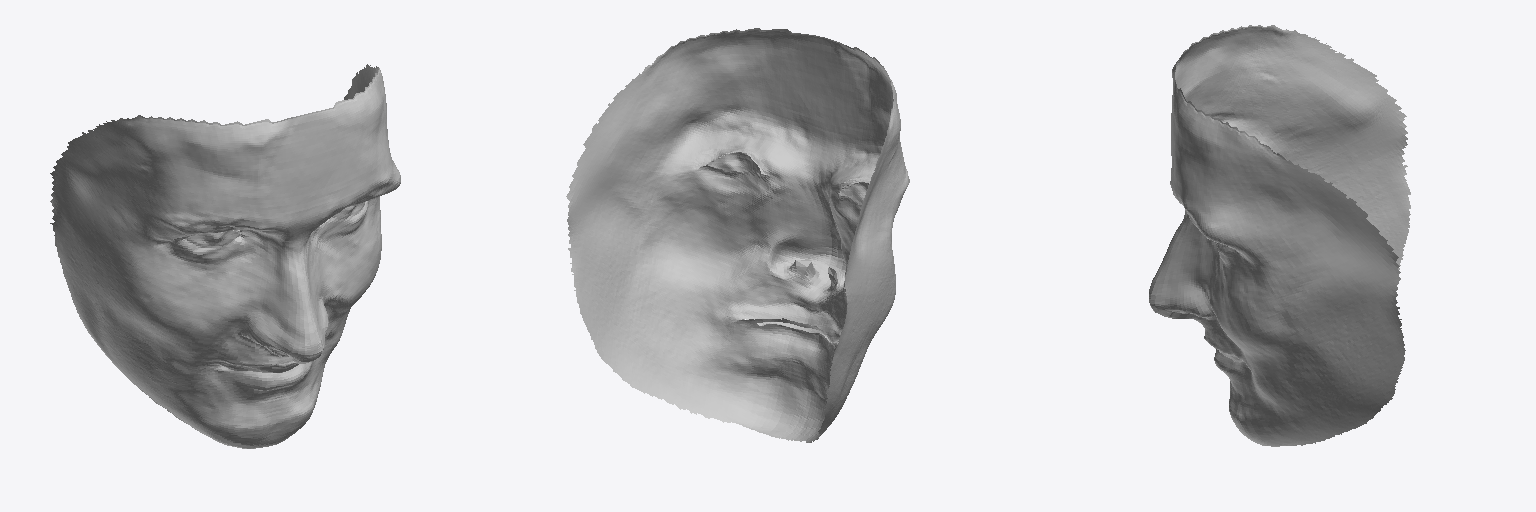
Rendered from 00437_0_hrn_high_mesh.obj.
3 renders of one model, left to right at view 1: azimuth 30°, elevation 25°; view 2: azimuth 150°, elevation 25°; view 3: azimuth 270°, elevation 25°, orthographic.
Bounding box in the file's own units: 1.41 × 1.73 × 1.12.